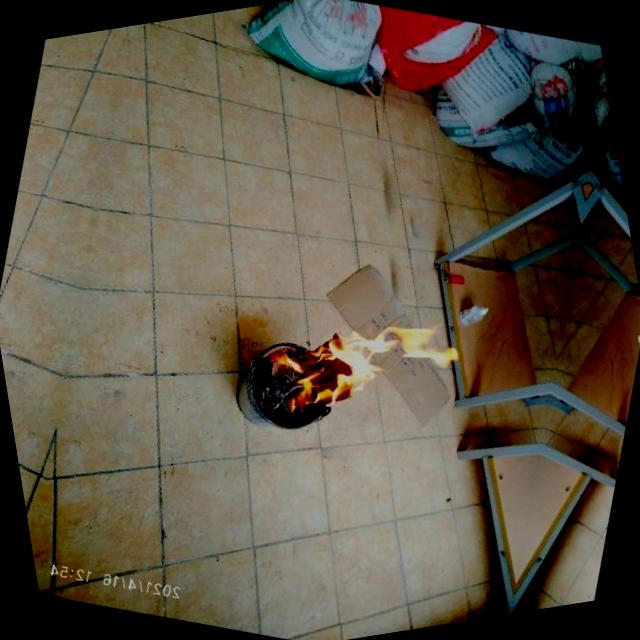fire: (230, 266, 467, 475)
